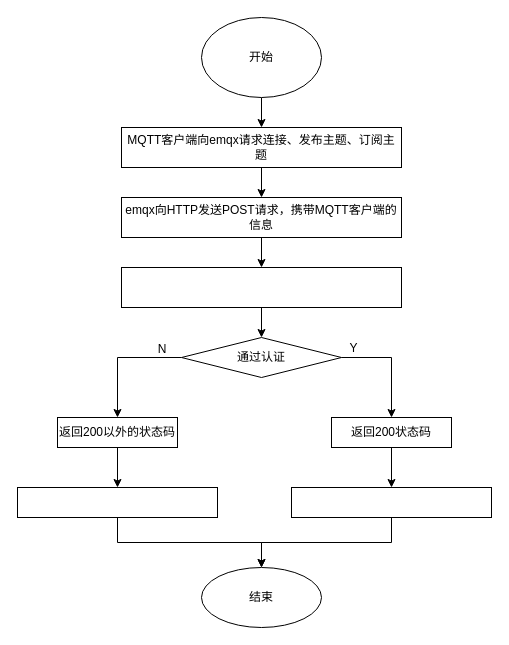
The diagram is 509 pixels wide and 645 high, and some of its shapes have lost their labels. The box of each missing label's shape, as (x1, y1, x2, y2) in pixels:
emqx允许MQTT客户端的行为: (290, 486, 492, 518)
emqx拒绝MQTT客户端的行为: (16, 486, 218, 518)
HTTP服务器决定是否通过认证: (120, 266, 402, 308)
